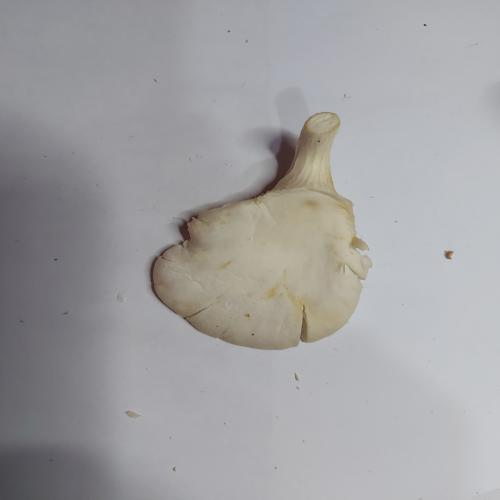Oyster Mushroom: (150, 111, 373, 351)
